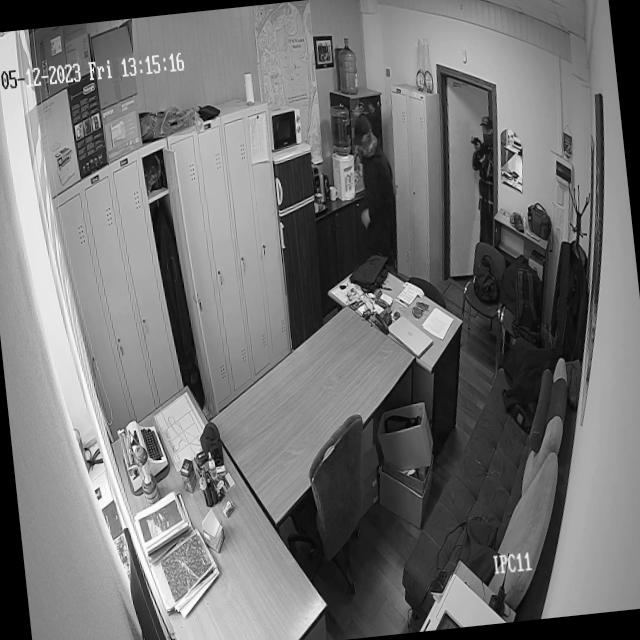gun: (469, 132, 486, 161)
person: (349, 112, 403, 273)
person with a gun: (466, 106, 504, 252)
